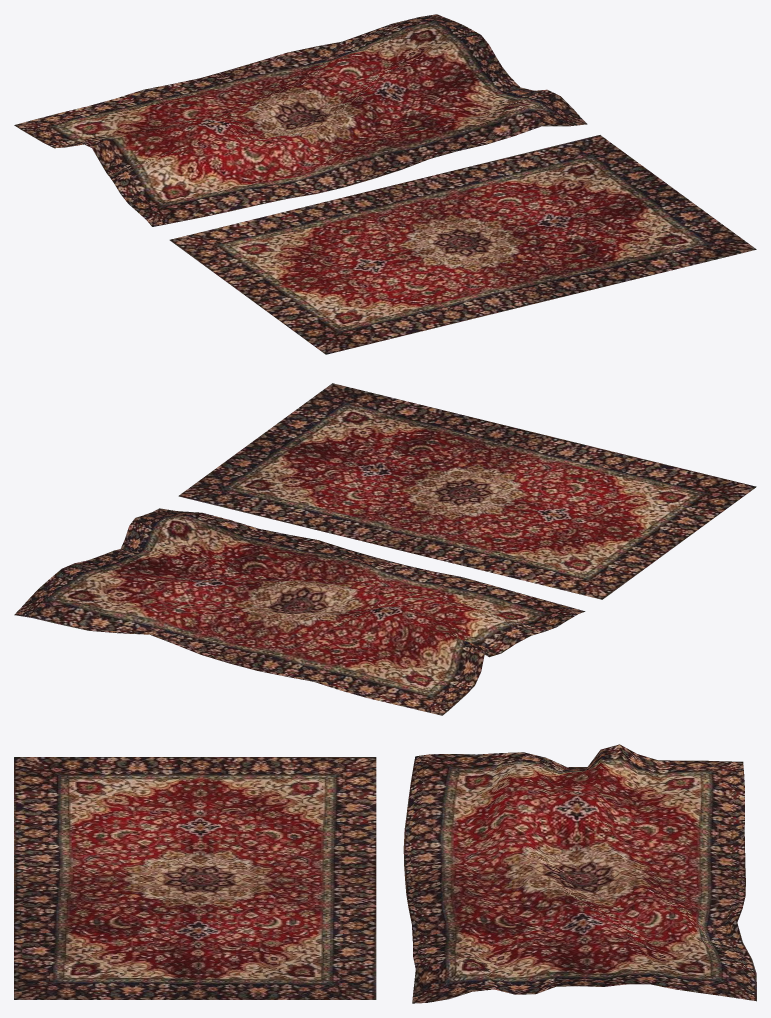
Rendered from CARPET.obj.
The picture shows the model from 3 angles, top to bottom: view 1: azimuth 30°, elevation 25°; view 2: azimuth 150°, elevation 25°; view 3: azimuth 270°, elevation 25°; orthographic projection. The views are drawn at different scales.
Visible parts, largest first — view 1: object_0; view 2: object_0; view 3: object_0.
Boxes of the visible parts, bbox=[...] form: object_0: bbox=[14, 14, 756, 354]; object_0: bbox=[14, 383, 756, 715]; object_0: bbox=[14, 744, 756, 1003].
Bounding box in the file's own units: 279 × 15.7 × 357.
